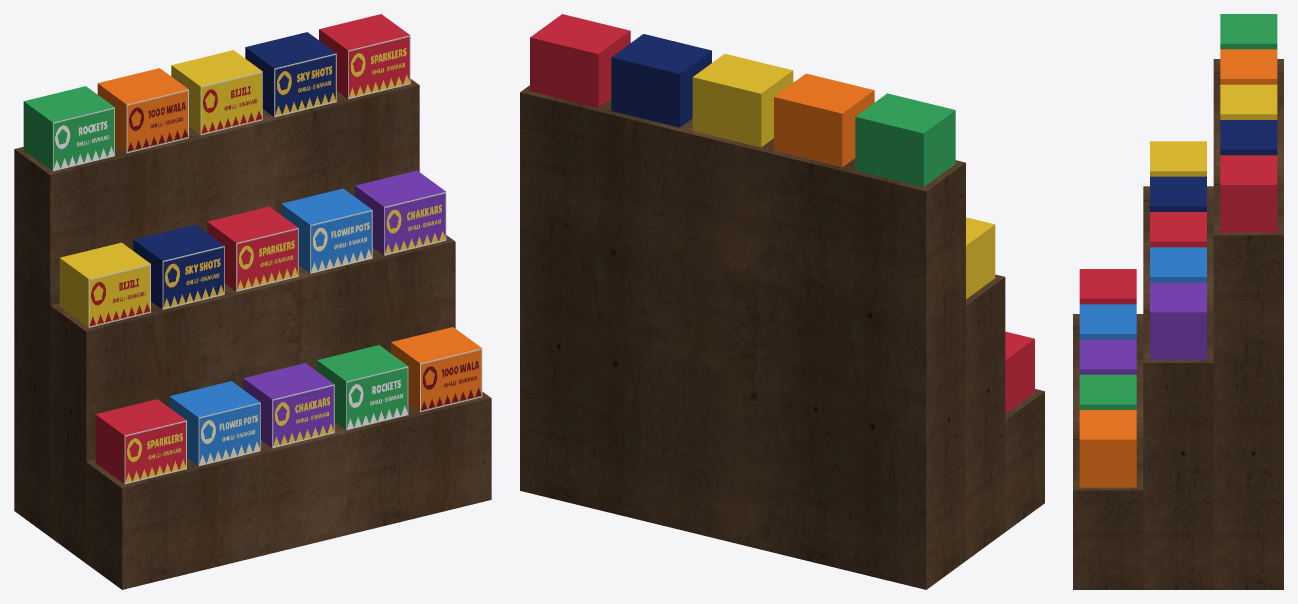
File: rack.glb
3 renders of one model, left to right at view 1: azimuth 30°, elevation 25°; view 2: azimuth 150°, elevation 25°; view 3: azimuth 270°, elevation 25°, orthographic. The views are drawn at different scales.
Parts seen in each view (by area): view 1: rack_0, rack_1, rack_2, rack_13, rack_5, rack_9, rack_3, rack_11, rack_7, rack_8, rack_12, rack_6 (+3 smaller); view 2: rack_0, rack_2, rack_12, rack_8, rack_14, rack_10; view 3: rack_0, rack_2, rack_10, rack_6, rack_8, rack_4, rack_12, rack_14.
Boxes of the visible parts, left/top/right/bottom form: rack_0: left=14, top=79, right=491, bottom=589; rack_1: left=124, top=35, right=410, bottom=484; rack_2: left=95, top=14, right=409, bottom=483; rack_13: left=162, top=53, right=336, bottom=309; rack_5: left=272, top=192, right=446, bottom=448; rack_9: left=126, top=89, right=482, bottom=412; rack_3: left=198, top=210, right=372, bottom=465; rack_11: left=88, top=71, right=262, bottom=327; rack_7: left=53, top=107, right=408, bottom=430; rack_8: left=23, top=86, right=407, bottom=429; rack_12: left=59, top=50, right=262, bottom=327; rack_6: left=243, top=170, right=445, bottom=447; rack_0: left=520, top=85, right=1044, bottom=589; rack_2: left=530, top=14, right=1034, bottom=413; rack_12: left=692, top=54, right=995, bottom=299; rack_8: left=855, top=93, right=955, bottom=187; rack_14: left=611, top=34, right=711, bottom=127; rack_10: left=774, top=73, right=874, bottom=167; rack_0: left=1073, top=59, right=1283, bottom=589; rack_2: left=1079, top=155, right=1277, bottom=304; rack_10: left=1079, top=49, right=1277, bottom=487; rack_6: left=1079, top=282, right=1206, bottom=374; rack_8: left=1079, top=14, right=1277, bottom=409; rack_4: left=1079, top=247, right=1206, bottom=339; rack_12: left=1150, top=84, right=1277, bottom=176; rack_14: left=1150, top=120, right=1277, bottom=211.
Bounding box in the file's own units: 1.9 × 2.02 × 0.96.
Materials: 15 (15 with a texture image).
